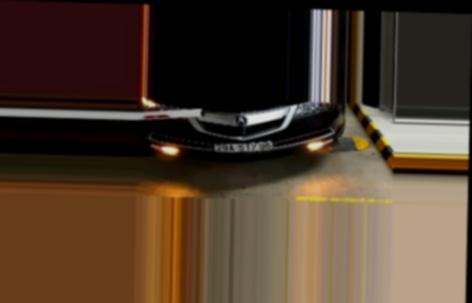License_Plate: (215, 139, 277, 154)
